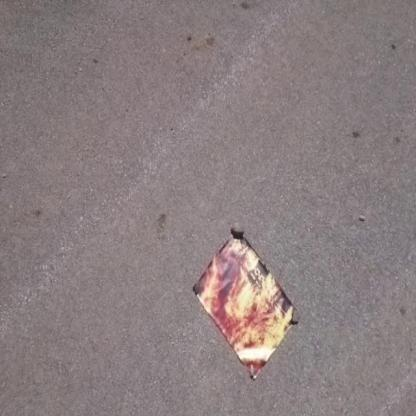fire-poster: (191, 226, 298, 382)
